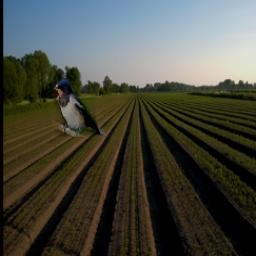Swallow: (53, 80, 105, 138)
